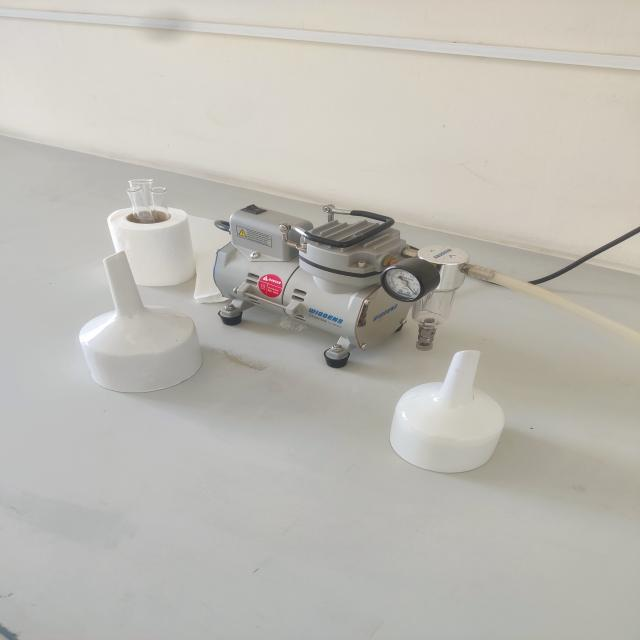Buchner_Funnel: (361, 318, 538, 498), (54, 239, 232, 409)
